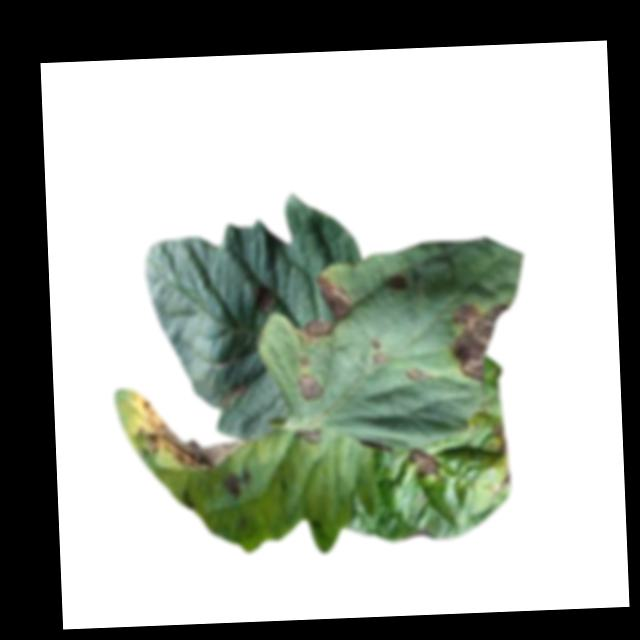Early_blight: (135, 396, 239, 475), (450, 299, 515, 386), (296, 274, 352, 343), (406, 448, 441, 478), (295, 371, 323, 403), (223, 471, 251, 500), (251, 285, 277, 315), (290, 426, 323, 449), (219, 381, 244, 408), (367, 339, 390, 367), (491, 423, 510, 456), (401, 368, 431, 388)
